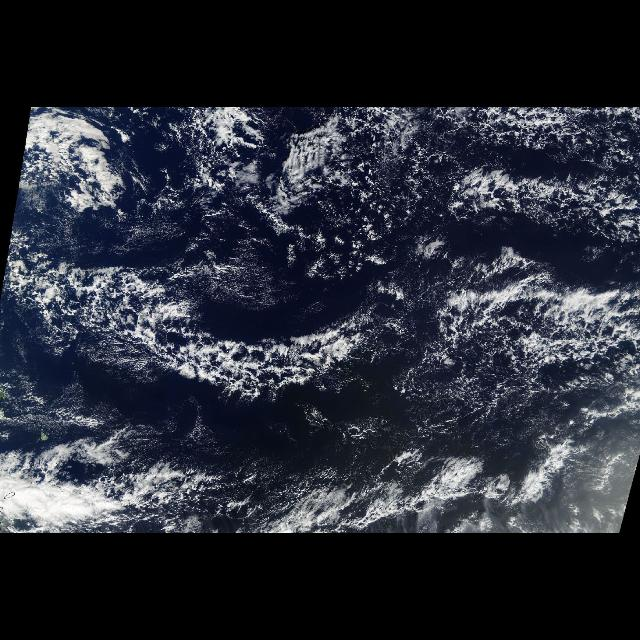Fish: (1, 113, 639, 527)
Gravel: (294, 122, 638, 430)
